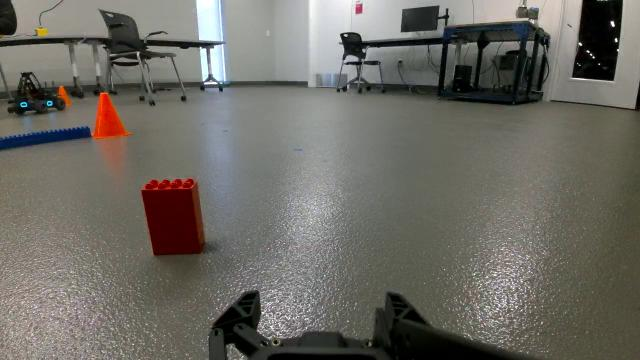lego: (134, 174, 220, 264)
